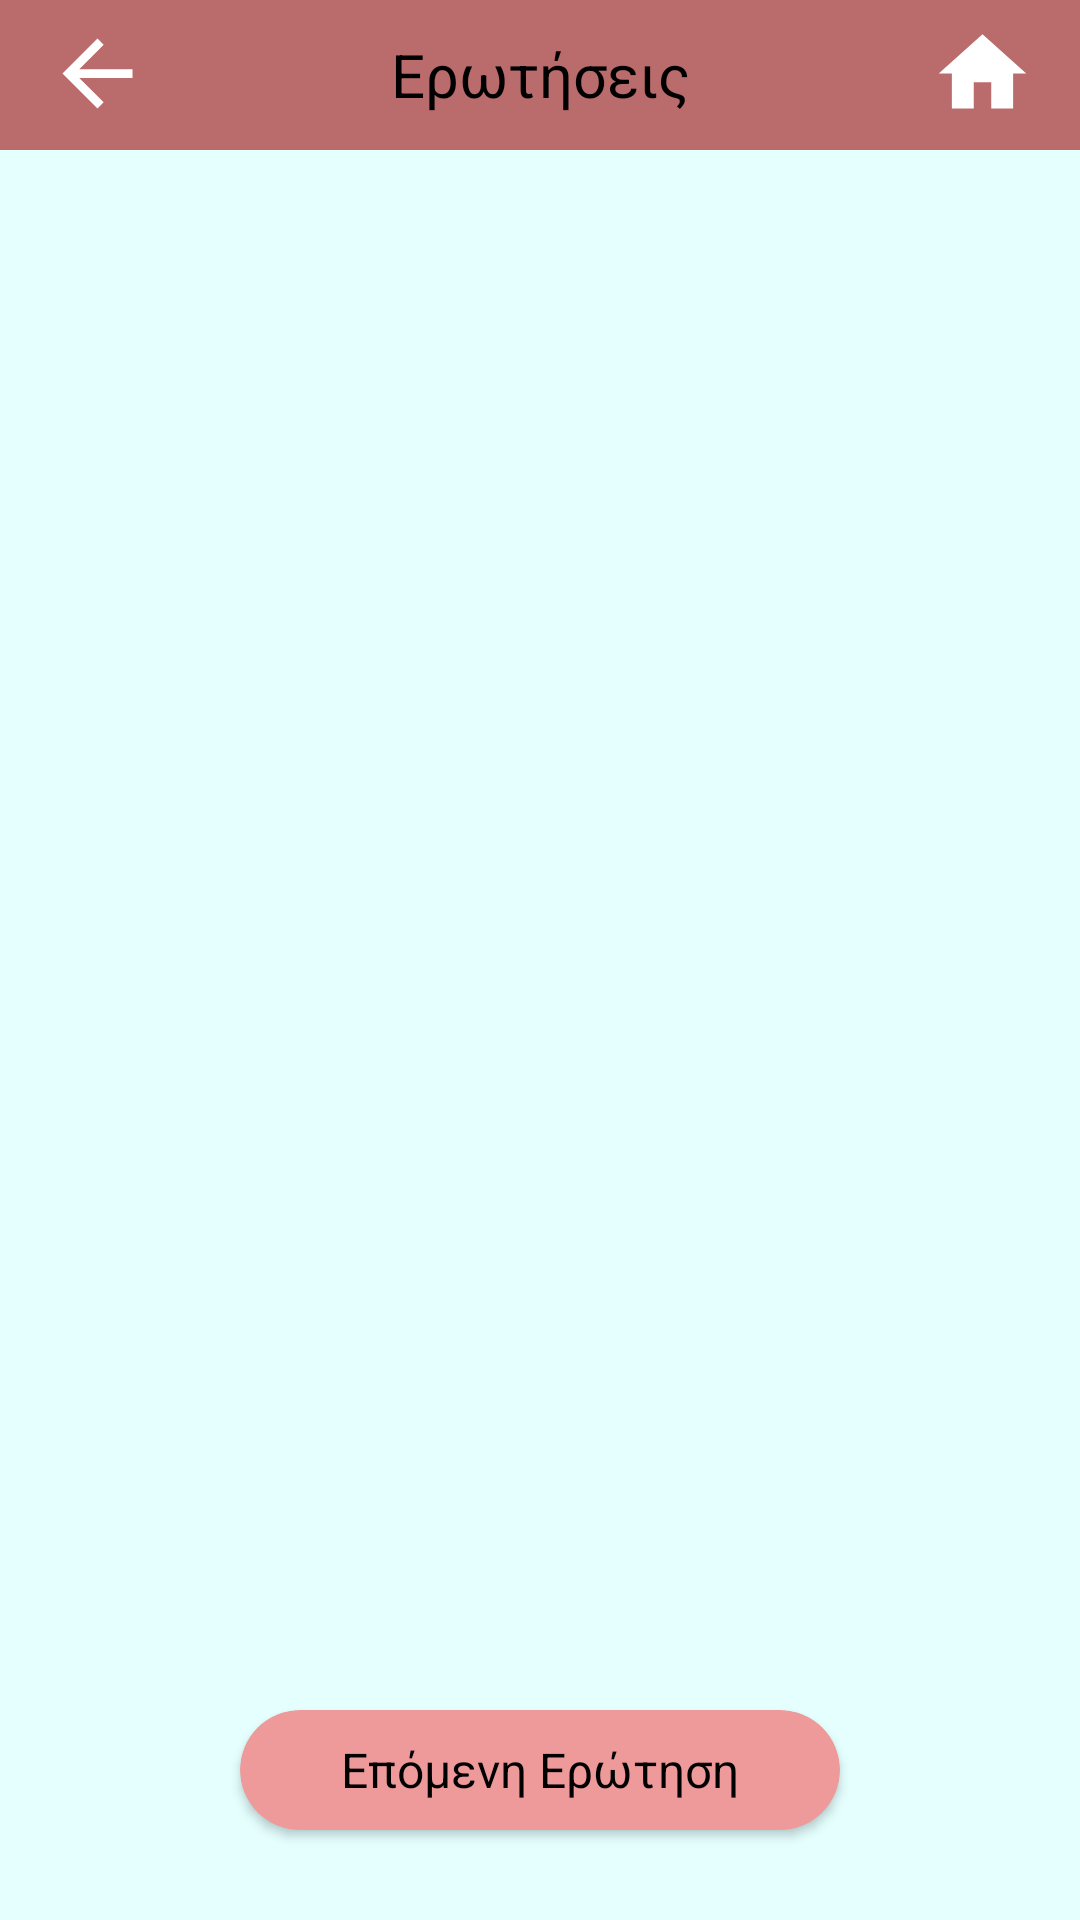

Where to tap for icons on this 1080 × 1920 app screen, as (x=x, y=y):
Back Button: (x=97, y=73)
Home Button: (x=982, y=71)
